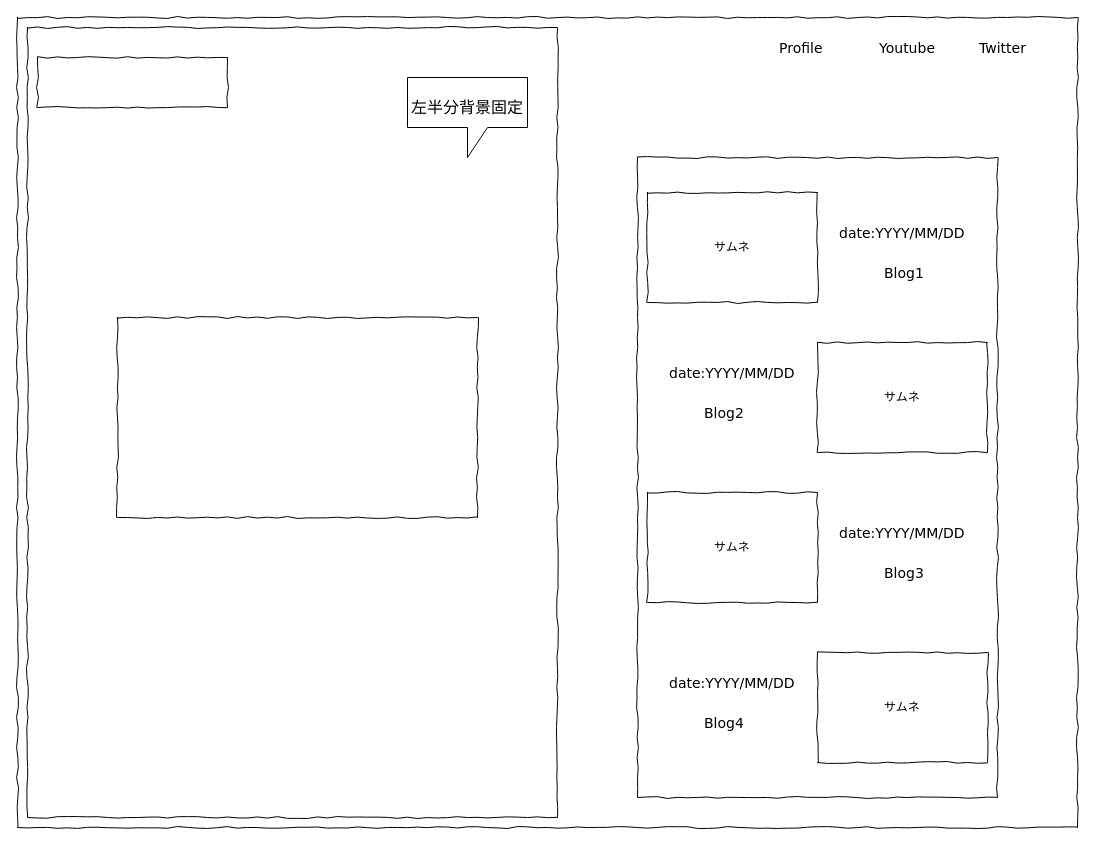
This 1095x845 diagram has some shape labels left out. Each missing label, with the centre of its shape:
"LOGO" goes at (132,82).
"Site Title" goes at (297,417).
